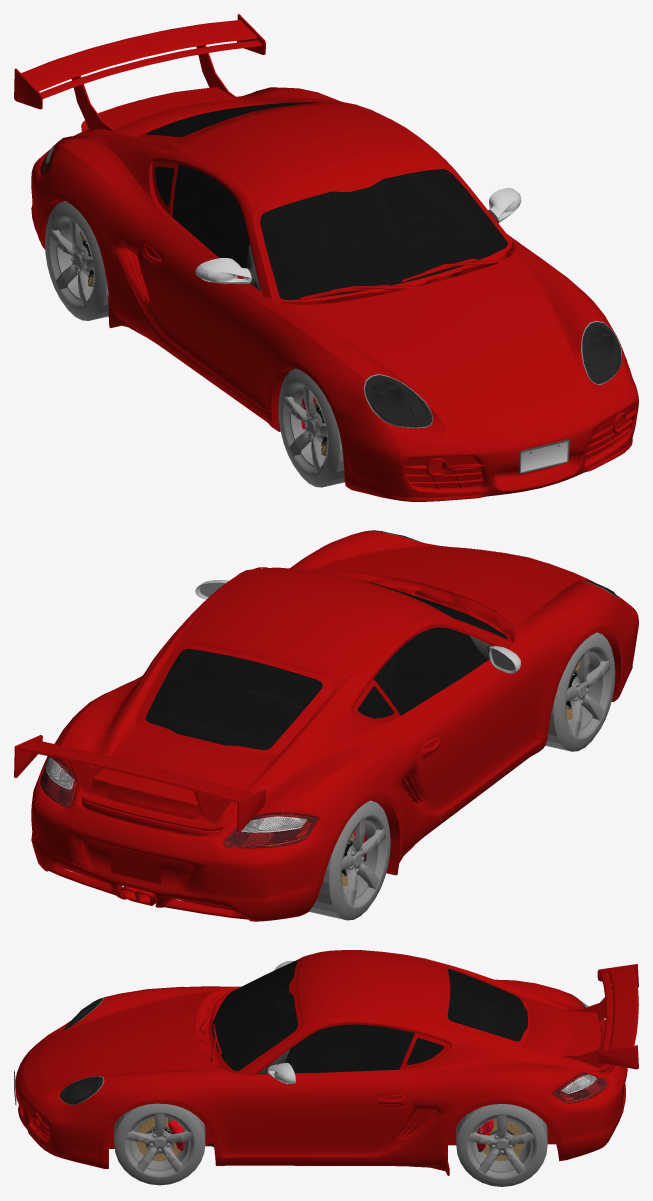
File: porsche-cayman.fbx
3 renders of one model, top to bottom at view 1: azimuth 30°, elevation 25°; view 2: azimuth 150°, elevation 25°; view 3: azimuth 270°, elevation 25°, orthographic. The views are drawn at different scales.
Visible parts, largest first — view 1: Body, Base_Detached, Hood, Base, SuperSpoiler, TireFR, TireRR, USpoiler, Spoiler, HLightR, HLightRG, HLightL (+4 smaller); view 2: Body, Base, Base_Detached, Spoiler, Hood, USpoiler, TireRR, TireFR, SuperSpoiler, BLightR, BLightL, MirrorR; view 3: Body, Base, Base_Detached, Hood, TireRL, TireFL, Spoiler, SuperSpoiler, USpoiler, BLightL, HLightL, HLightLG (+3 smaller).
Boxes of the visible parts, bbox=[...] form: Body: bbox=[31, 87, 638, 501]; Base_Detached: bbox=[145, 102, 507, 300]; Hood: bbox=[311, 256, 579, 420]; Base: bbox=[105, 102, 515, 304]; SuperSpoiler: bbox=[14, 14, 265, 109]; TireFR: bbox=[278, 368, 344, 487]; TireRR: bbox=[45, 201, 108, 320]; USpoiler: bbox=[71, 45, 354, 148]; Spoiler: bbox=[84, 96, 354, 150]; HLightR: bbox=[364, 374, 433, 428]; HLightRG: bbox=[365, 375, 432, 427]; HLightL: bbox=[581, 320, 621, 384]; Body: bbox=[31, 530, 638, 921]; Base: bbox=[104, 567, 515, 777]; Base_Detached: bbox=[145, 581, 507, 750]; Spoiler: bbox=[85, 629, 356, 826]; Hood: bbox=[314, 546, 579, 621]; USpoiler: bbox=[69, 629, 355, 824]; TireRR: bbox=[309, 800, 390, 920]; TireFR: bbox=[545, 632, 615, 751]; SuperSpoiler: bbox=[14, 735, 265, 832]; BLightR: bbox=[223, 812, 319, 848]; BLightL: bbox=[40, 756, 76, 808]; MirrorR: bbox=[469, 635, 521, 673]; Body: bbox=[15, 951, 627, 1175]; Base: bbox=[194, 950, 536, 1075]; Base_Detached: bbox=[211, 960, 527, 1073]; Hood: bbox=[39, 992, 213, 1083]; TireRL: bbox=[456, 1104, 547, 1186]; TireFL: bbox=[114, 1103, 205, 1185]; Spoiler: bbox=[426, 959, 597, 1070]; SuperSpoiler: bbox=[597, 964, 638, 1069]; USpoiler: bbox=[426, 959, 605, 1070]; BLightL: bbox=[551, 1072, 608, 1103]; HLightL: bbox=[60, 1076, 104, 1104]; HLightLG: bbox=[60, 1076, 103, 1104].
Bounding box in the file's own units: 1.27 × 0.8171 × 2.88.
18 materials, 9 textured.
